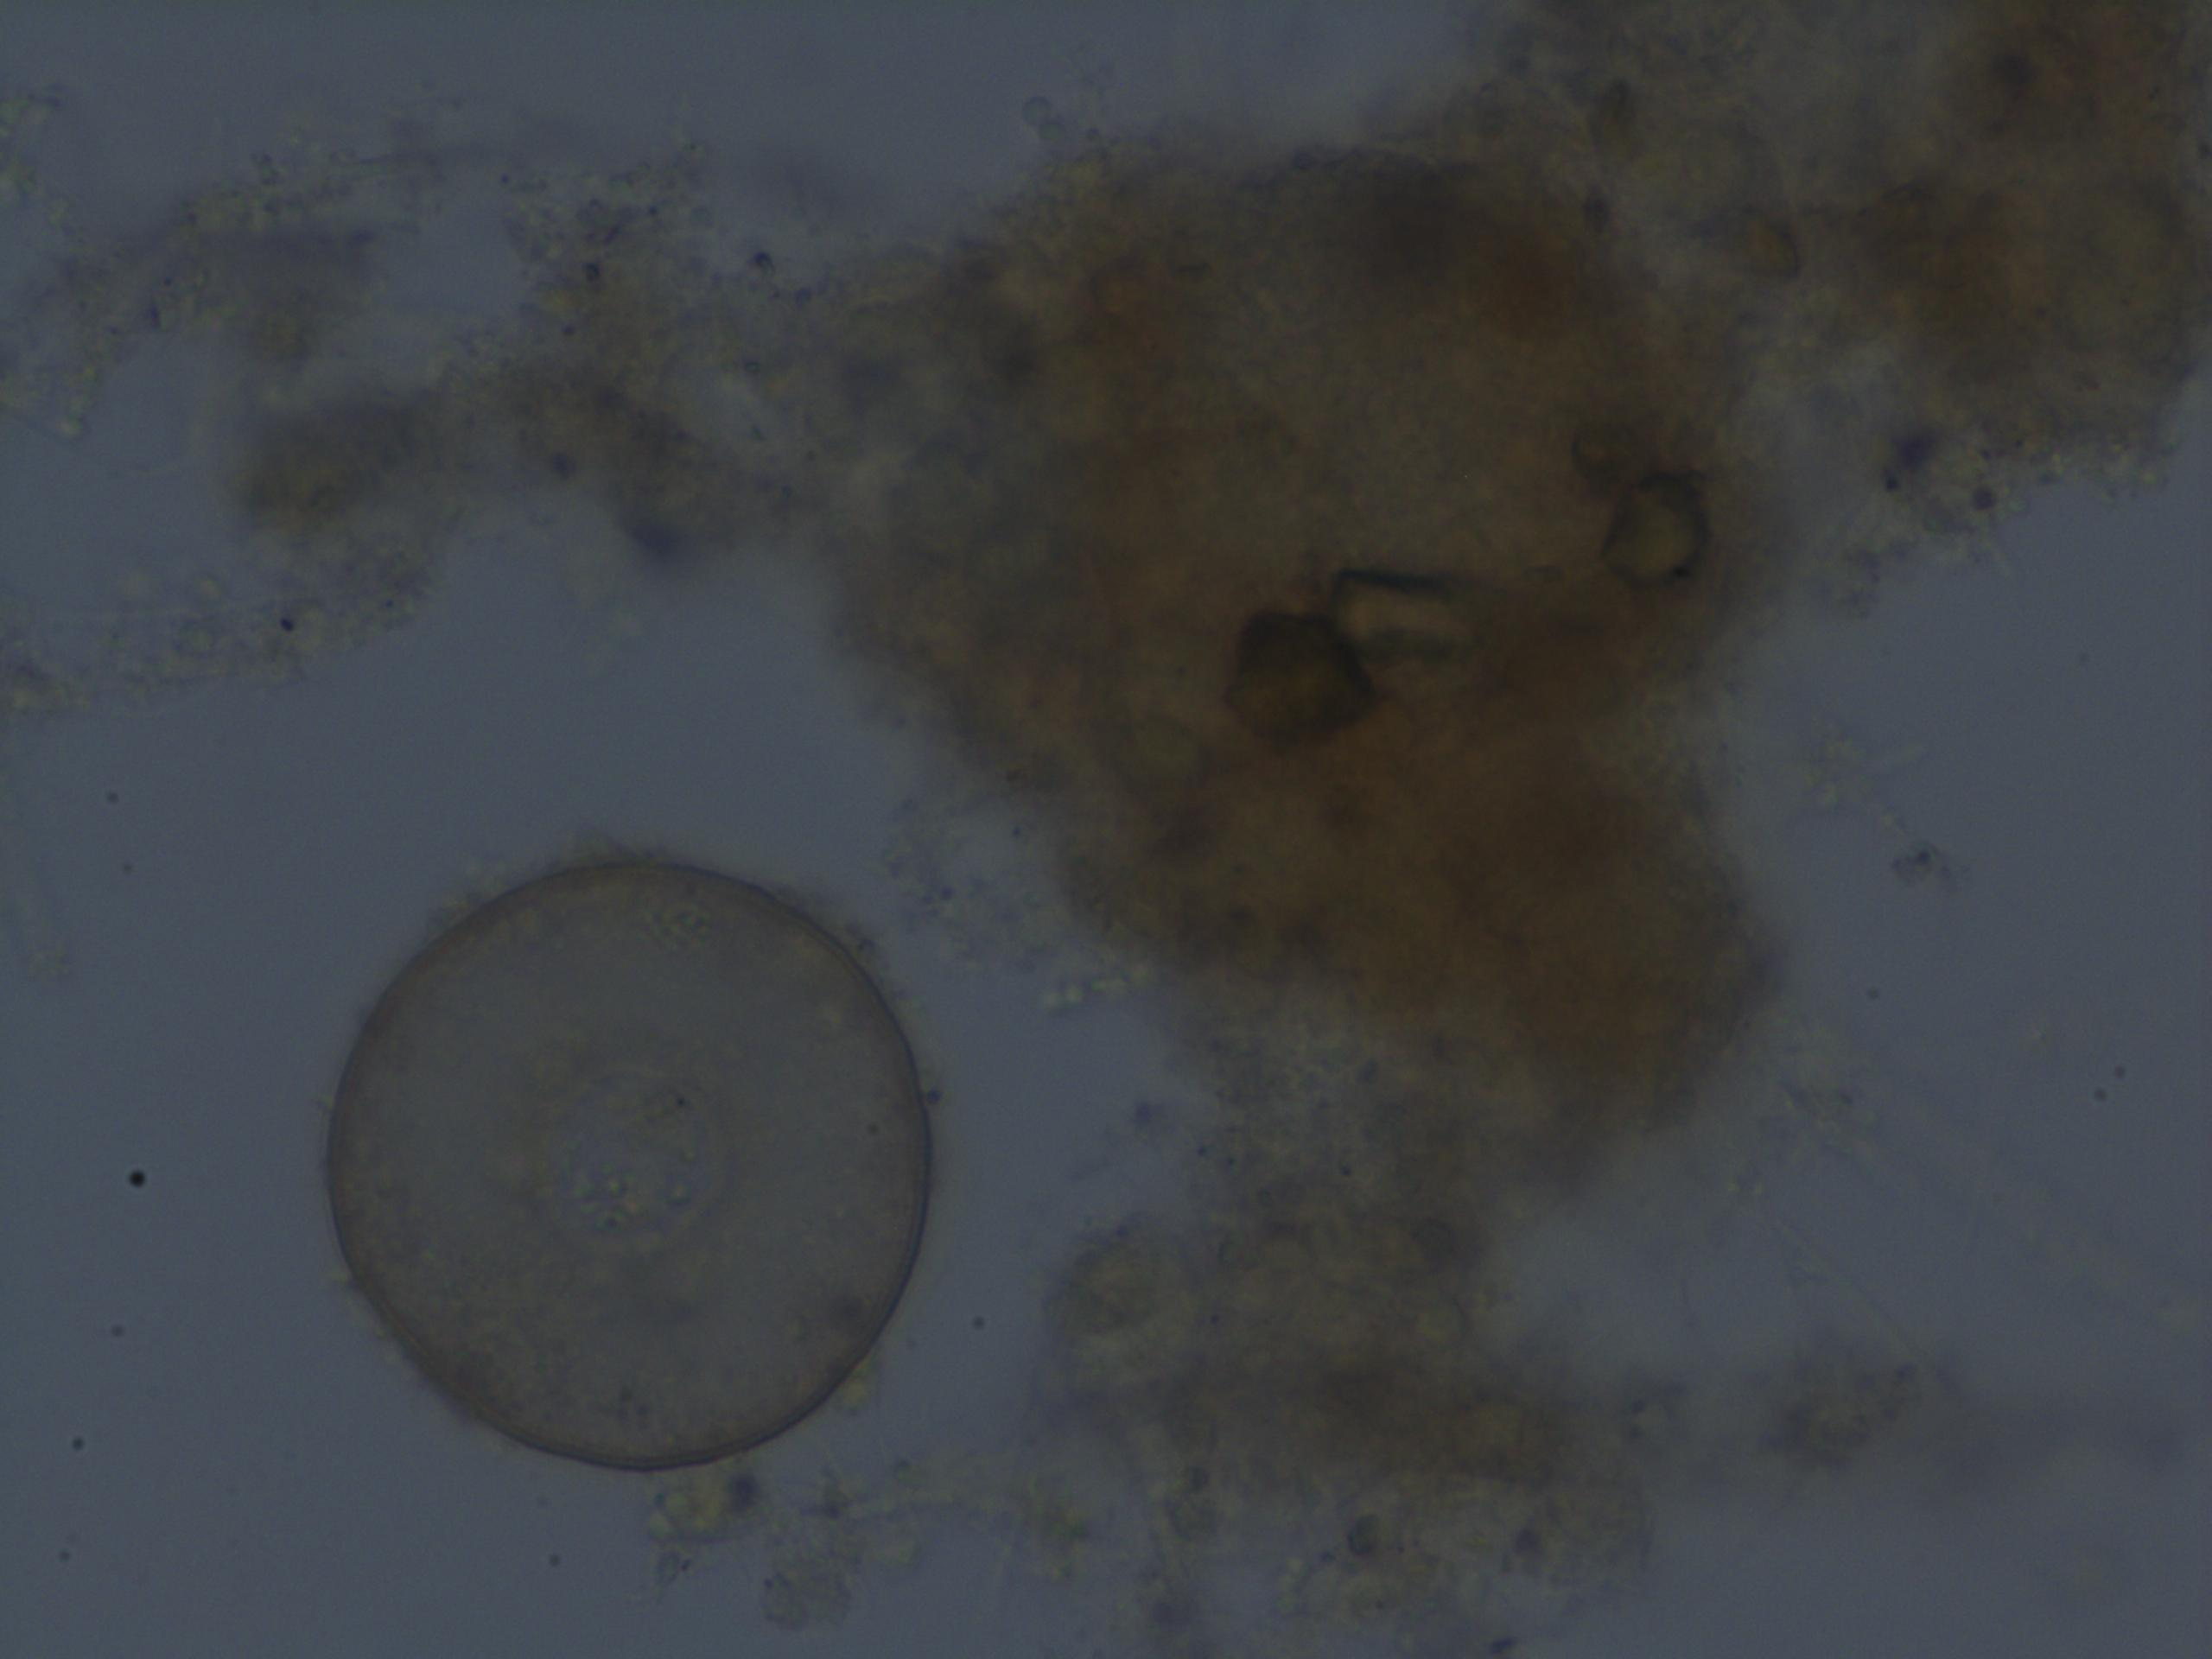protozoa: (320, 843, 949, 1481)
